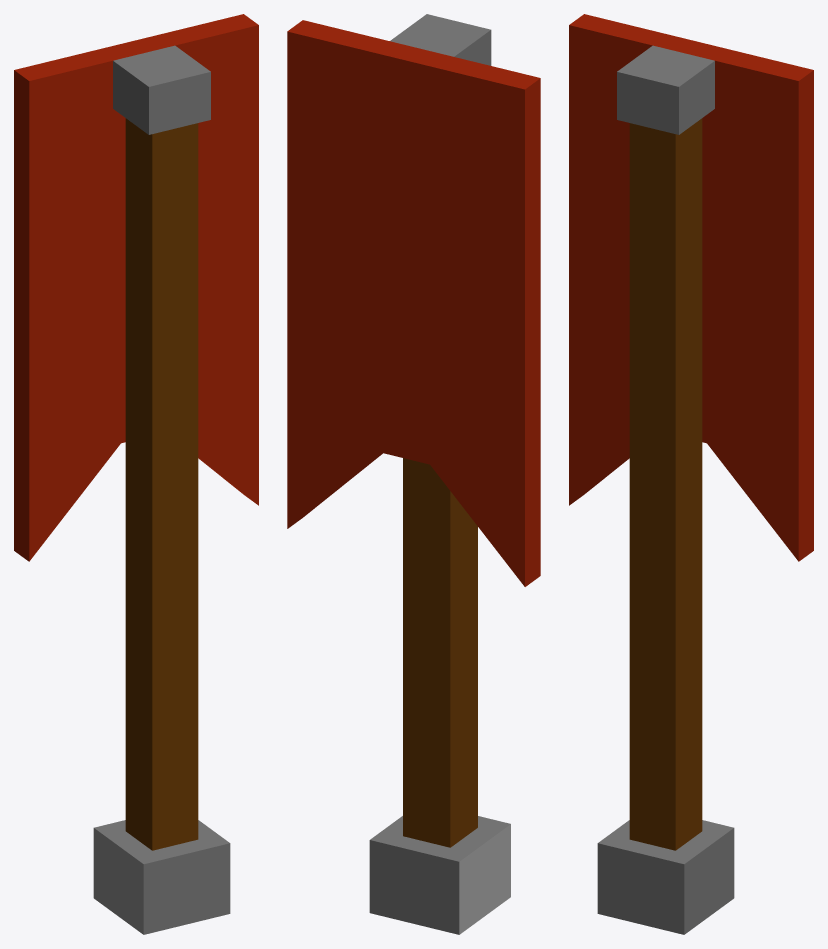
The model's file is Flag_Red.fbx.
3 renders of one model, left to right at view 1: azimuth 30°, elevation 25°; view 2: azimuth 150°, elevation 25°; view 3: azimuth 330°, elevation 25°, orthographic. The views are drawn at different scales.
Visible parts, largest first — view 1: pCube1; view 2: pCube1; view 3: pCube1.
Boxes of the visible parts, box(x1,y1,x2,y2) form: pCube1: box(14, 14, 258, 934); pCube1: box(287, 14, 540, 934); pCube1: box(569, 14, 813, 934).
Bounding box in the file's own units: 5 × 17.47 × 2.19.
